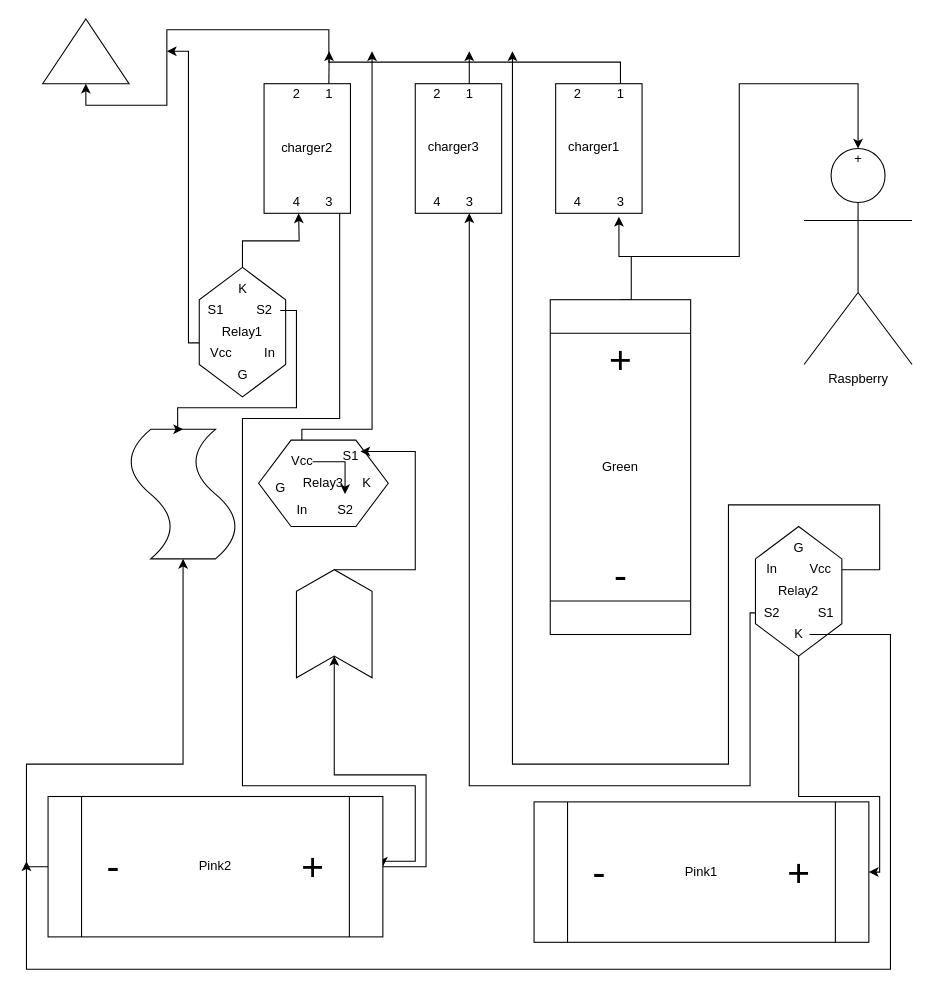
Image size: 931x997. Some labels were removed from this diagram. The centre of each missing label's shape, as x and y in pixels:
"Adaptor" belongs at (x=85, y=51).
"Diode" belongs at (x=333, y=623).
"Fuse" belongs at (x=182, y=493).
